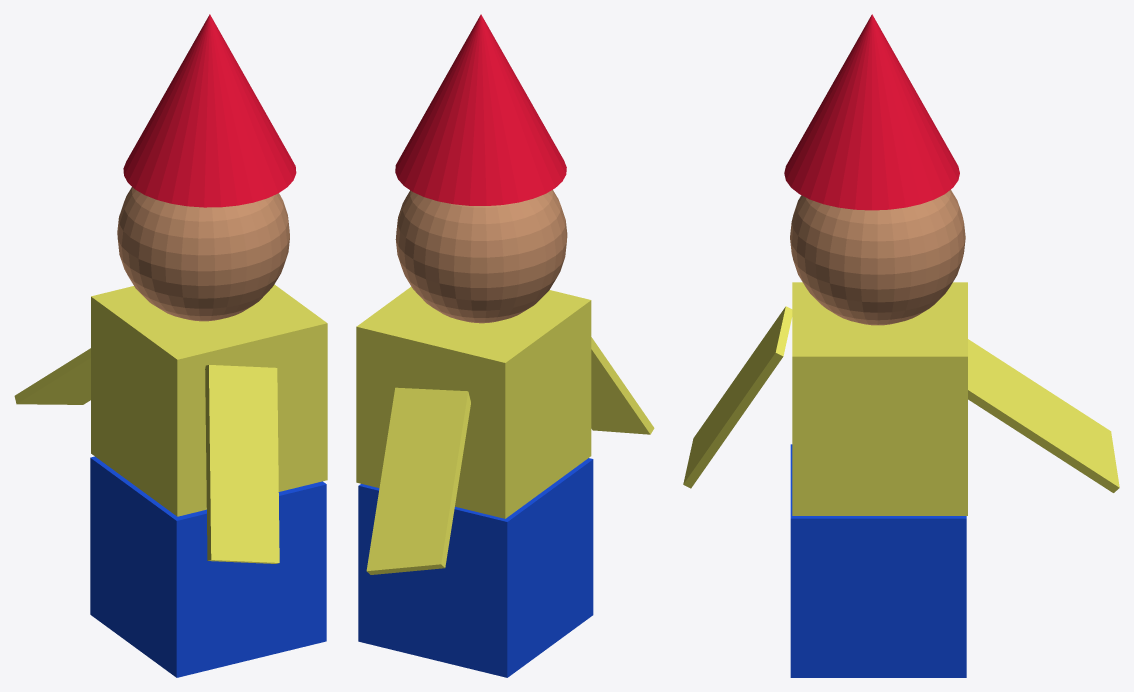
File: Child.fbx
3 renders of one model, left to right at view 1: azimuth 30°, elevation 25°; view 2: azimuth 150°, elevation 25°; view 3: azimuth 270°, elevation 25°, orthographic. The views are drawn at different scales.
Parts seen in each view (by area): view 1: Cube, Cube.001, Cone, Sphere, Cube.002, Cube.003; view 2: Cube, Cube.001, Cone, Sphere, Cube.003, Cube.002; view 3: Cube, Cube.001, Cone, Sphere, Cube.003, Cube.002.
Part boxes in pixels (x1,y1,x2,y2): Cube: (91, 284, 327, 516); Cube.001: (90, 456, 326, 677); Cone: (123, 14, 296, 207); Sphere: (117, 187, 289, 321); Cube.002: (205, 365, 279, 563); Cube.003: (14, 348, 90, 404); Cube: (356, 286, 591, 518); Cube.001: (358, 458, 593, 677); Cone: (395, 14, 566, 205); Sphere: (395, 190, 567, 323); Cube.003: (366, 387, 470, 574); Cube.002: (591, 337, 654, 434); Cube: (792, 282, 967, 515); Cube.001: (790, 444, 966, 677); Cone: (784, 14, 959, 210); Sphere: (790, 189, 965, 325); Cube.003: (968, 339, 1119, 492); Cube.002: (683, 306, 792, 488).
Size of the model in its own units: 220 by 786 by 497.
